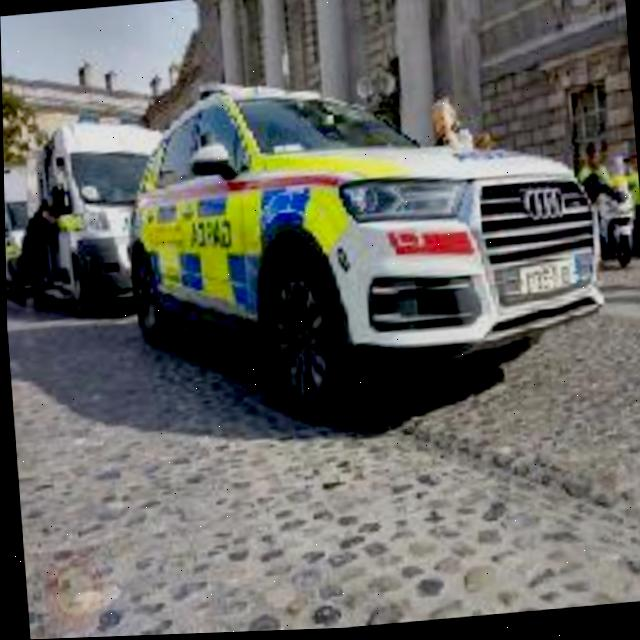emergency: (121, 39, 598, 378)
